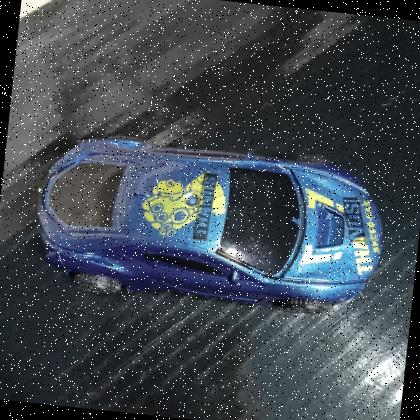Car: (35, 138, 383, 308)
